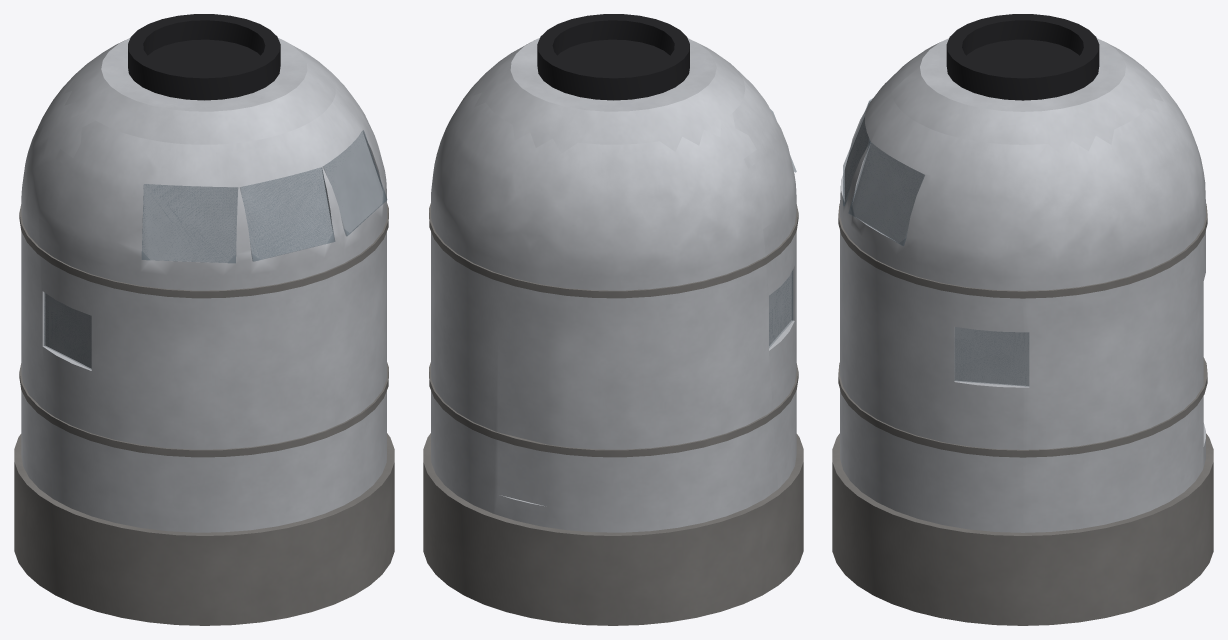
File: cmd07_mav_cabin.glb
The picture shows the model from 3 angles, left to right: view 1: azimuth 30°, elevation 25°; view 2: azimuth 150°, elevation 25°; view 3: azimuth 270°, elevation 25°; orthographic projection.
Visible parts, largest first — view 1: pressure_hull, interface_skirt, windows, docking_port, frame_bands; view 2: pressure_hull, interface_skirt, docking_port, frame_bands, windows; view 3: pressure_hull, interface_skirt, docking_port, windows, frame_bands.
Part boxes in pixels (bbox=[...]): pressure_hull: bbox=[21, 38, 386, 532]; interface_skirt: bbox=[14, 433, 394, 625]; windows: bbox=[44, 130, 387, 369]; docking_port: bbox=[128, 14, 280, 100]; frame_bands: bbox=[19, 203, 388, 457]; pressure_hull: bbox=[431, 38, 796, 532]; interface_skirt: bbox=[423, 433, 803, 625]; docking_port: bbox=[537, 14, 689, 100]; frame_bands: bbox=[429, 203, 798, 457]; windows: bbox=[769, 109, 796, 347]; pressure_hull: bbox=[840, 38, 1205, 532]; interface_skirt: bbox=[832, 433, 1213, 625]; docking_port: bbox=[946, 14, 1099, 100]; windows: bbox=[843, 98, 1028, 386]; frame_bands: bbox=[838, 203, 1207, 457].
Bounding box in the file's own units: 2.5 × 3.61 × 2.5.
Materials: 4 (2 with a texture image).
